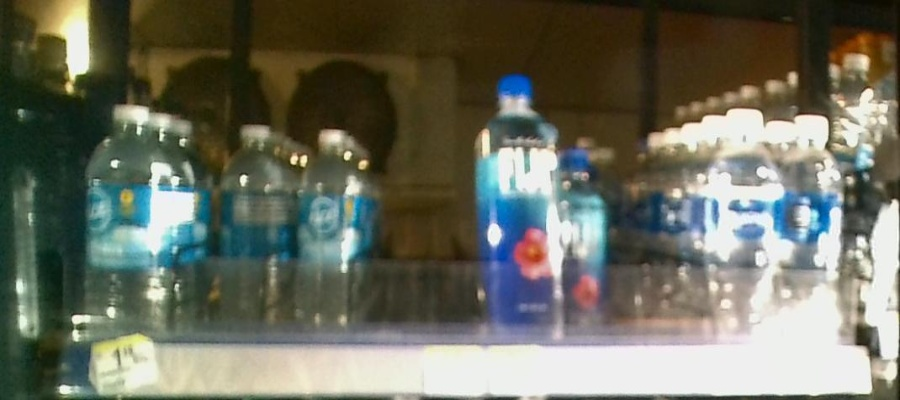bottle: (474, 67, 561, 344), (84, 96, 167, 339), (704, 102, 776, 329), (781, 110, 846, 324), (220, 123, 286, 330), (296, 130, 354, 336), (565, 151, 614, 341)
